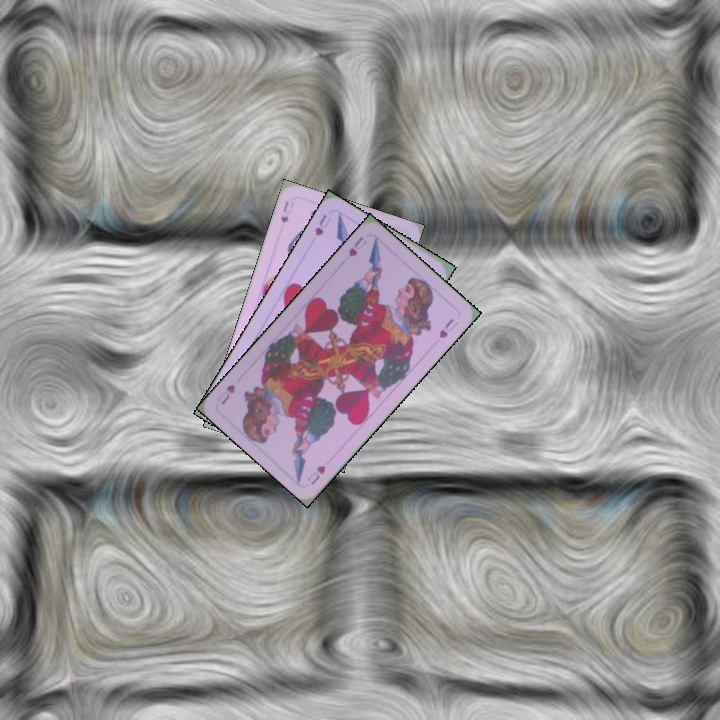HU: (344, 233, 370, 259), (303, 461, 328, 488), (311, 210, 334, 238)
SU: (277, 197, 291, 226)
